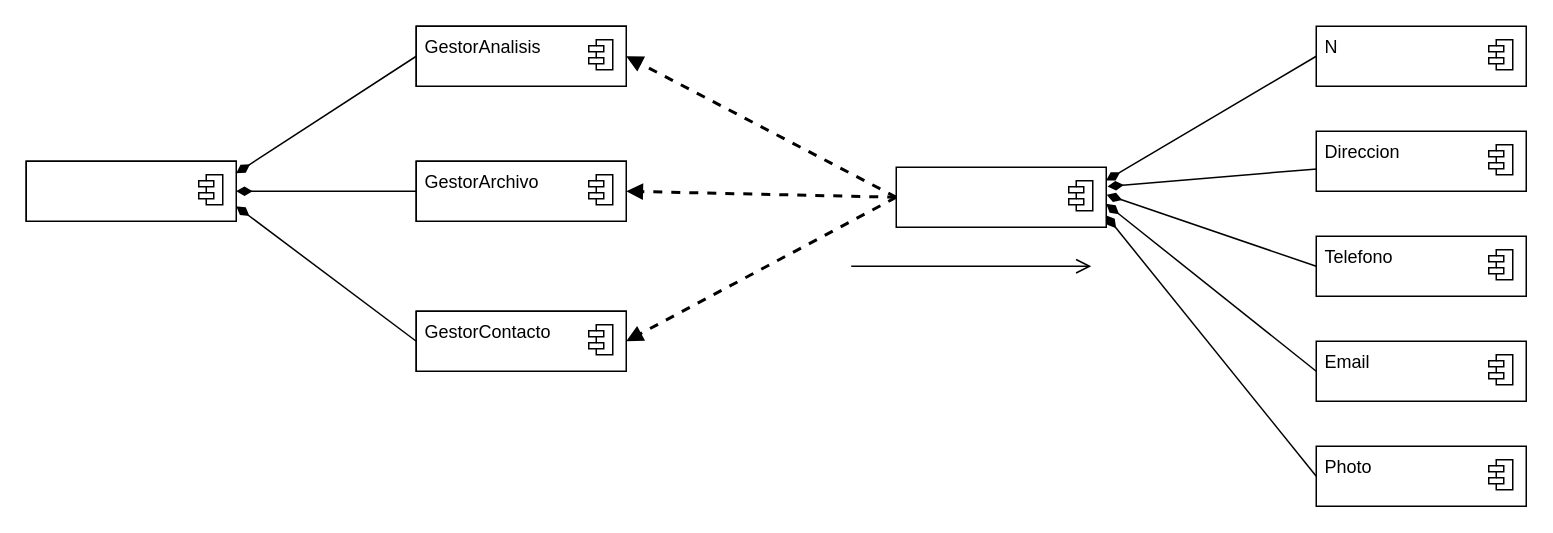
This 1553x533 diagram has some shape labels left out. The shapes that lost their labels are listed below. From the top down, each one's box as (x1, y1, x2, y2) in pixels, then its label:
(25, 160, 236, 221): SmartScheduler
(895, 166, 1106, 227): Contacto
